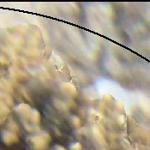alive: (2, 4, 147, 147)
